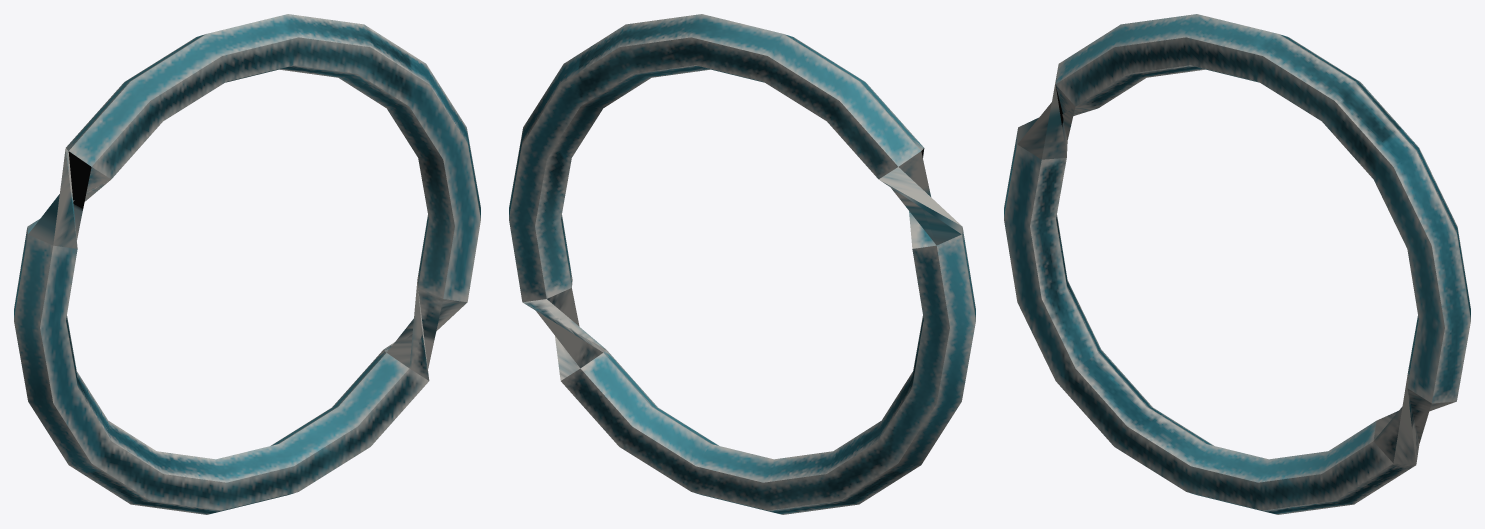
File: Loopline Tether_ChainLink.fbx
The picture shows the model from 3 angles, left to right: view 1: azimuth 30°, elevation 25°; view 2: azimuth 150°, elevation 25°; view 3: azimuth 330°, elevation 25°; orthographic projection.
Visible parts, largest first — view 1: Loopline Tether_ChainLink; view 2: Loopline Tether_ChainLink; view 3: Loopline Tether_ChainLink.
Part boxes in pixels (x1=…): Loopline Tether_ChainLink: x1=14, y1=14, x2=480, y2=514; Loopline Tether_ChainLink: x1=509, y1=14, x2=975, y2=514; Loopline Tether_ChainLink: x1=1004, y1=14, x2=1470, y2=514.
Bounding box in the file's own units: 0.27 × 0.2659 × 0.026.
